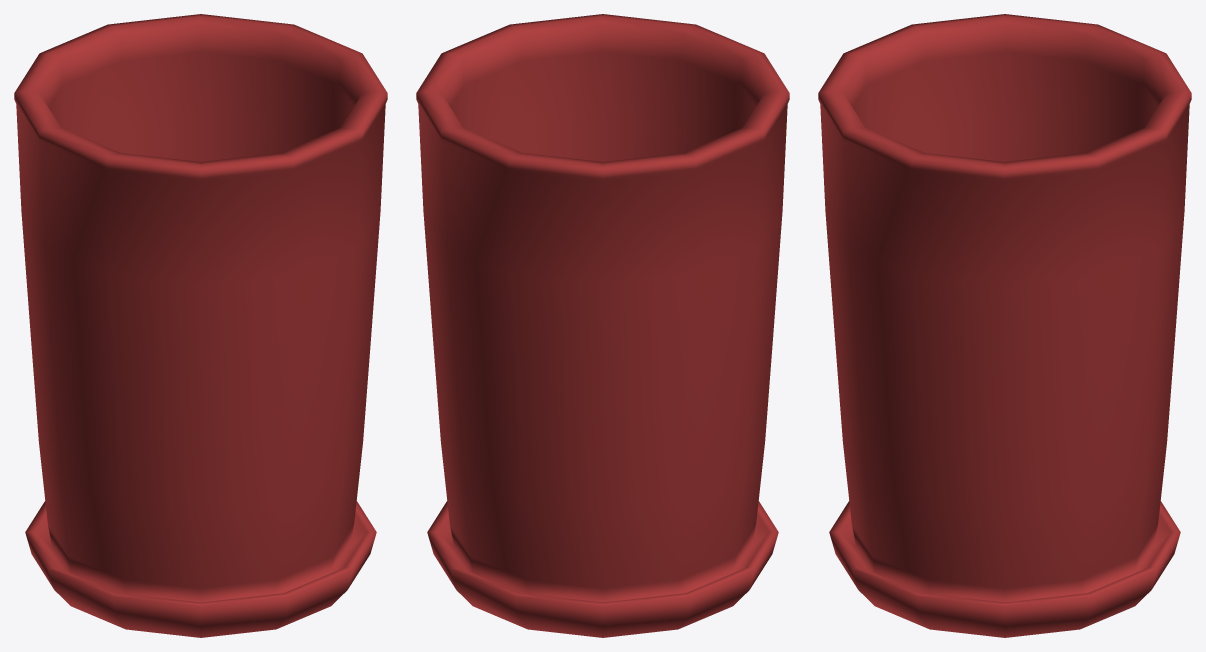
File: st2_flowerpot_02_low.fbx
3 views of the same model, side by side, from view 1: azimuth 30°, elevation 25°; view 2: azimuth 150°, elevation 25°; view 3: azimuth 270°, elevation 25° (orthographic).
Visible parts, largest first — view 1: st2_flowerpot_02_low; view 2: st2_flowerpot_02_low; view 3: st2_flowerpot_02_low.
Boxes of the visible parts, x1=… form: st2_flowerpot_02_low: x1=14, y1=14, x2=387, y2=637; st2_flowerpot_02_low: x1=416, y1=14, x2=789, y2=637; st2_flowerpot_02_low: x1=818, y1=14, x2=1191, y2=637.
Size of the model in its own units: 99.98 by 143 by 99.98.
